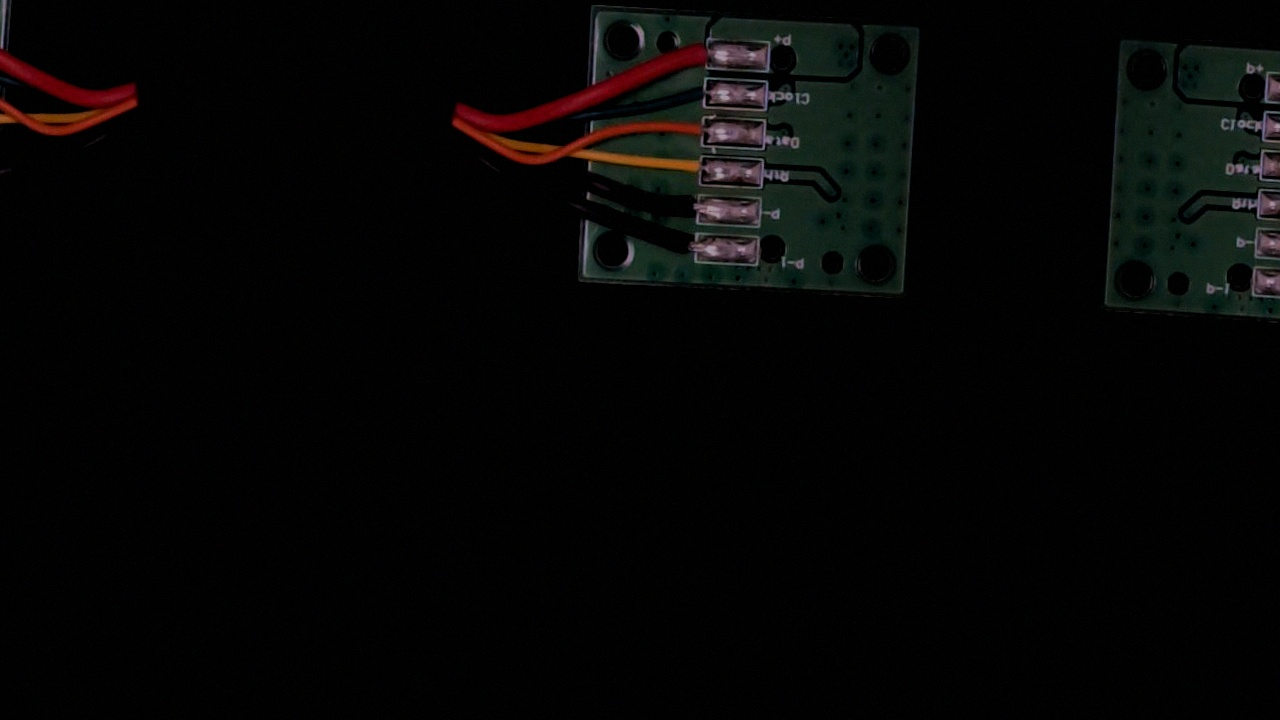Black: (642, 188, 713, 224)
Black1: (644, 227, 711, 264)
Green: (660, 75, 719, 111)
Orange: (656, 112, 719, 147)
Red: (659, 35, 724, 72)
Yellow: (649, 149, 717, 185)
